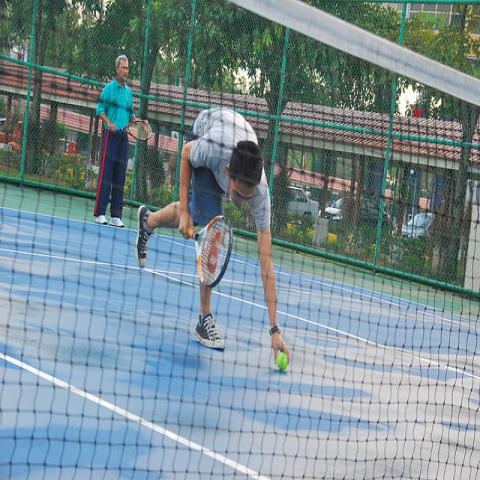car: (325, 198, 389, 227), (402, 210, 434, 240), (289, 186, 319, 218)
